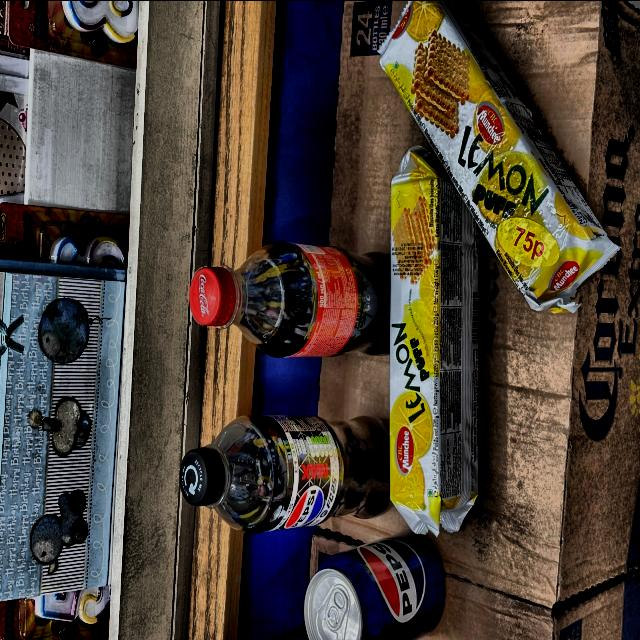coke-bottle: (186, 232, 384, 382)
lemon puff: (382, 0, 586, 288), (370, 154, 496, 530)
pepsi-bottle: (178, 390, 410, 550)
pepsi-can: (306, 525, 452, 640)
